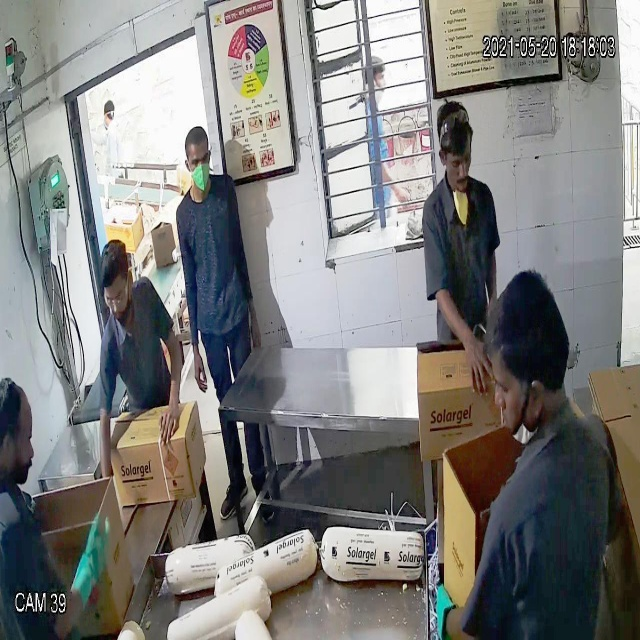Gafas: (97, 272, 136, 307)
Sin_gafas: (178, 143, 222, 177), (434, 144, 477, 172)
